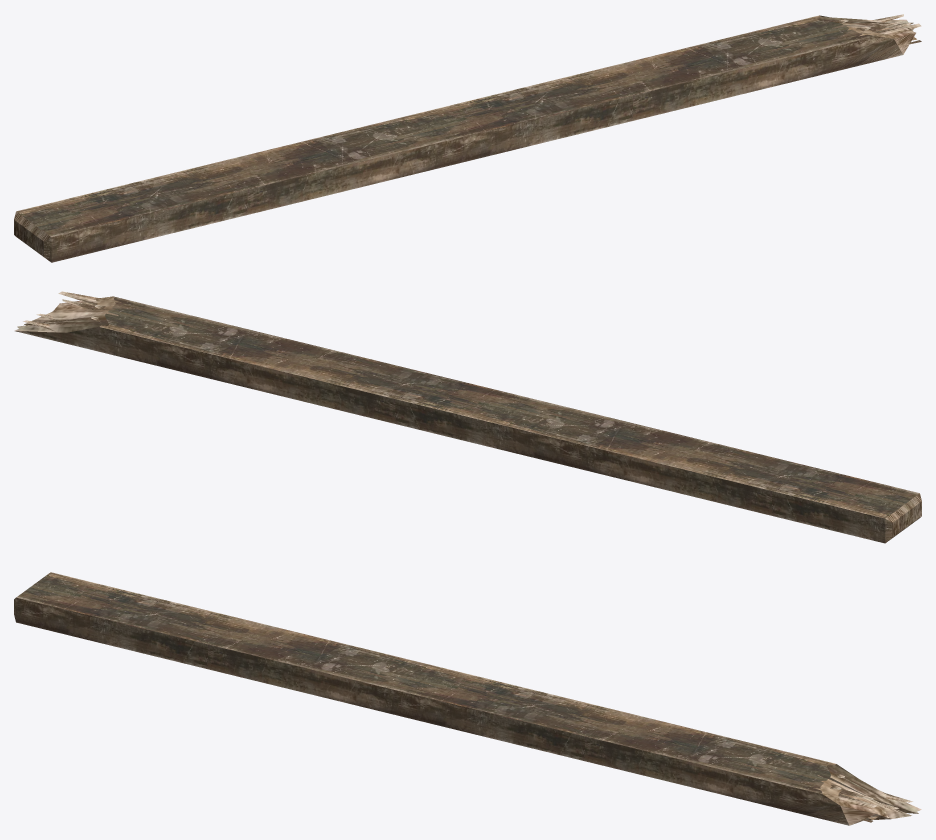
3 views of the same model, one above another, from view 1: azimuth 30°, elevation 25°; view 2: azimuth 150°, elevation 25°; view 3: azimuth 330°, elevation 25° (orthographic). The views are drawn at different scales.
Parts seen in each view (by area): view 1: SM_SaradominTemple_Roof_Plank_01_v5_LOD0; view 2: SM_SaradominTemple_Roof_Plank_01_v5_LOD0; view 3: SM_SaradominTemple_Roof_Plank_01_v5_LOD0.
Part boxes in pixels (left/top/right/bottom): SM_SaradominTemple_Roof_Plank_01_v5_LOD0: left=14, top=14, right=921, bottom=262; SM_SaradominTemple_Roof_Plank_01_v5_LOD0: left=14, top=291, right=921, bottom=543; SM_SaradominTemple_Roof_Plank_01_v5_LOD0: left=14, top=572, right=921, bottom=825.
Bounding box in the file's own units: 7.5 × 0.2033 × 0.5137.
1 material, 1 textured.
